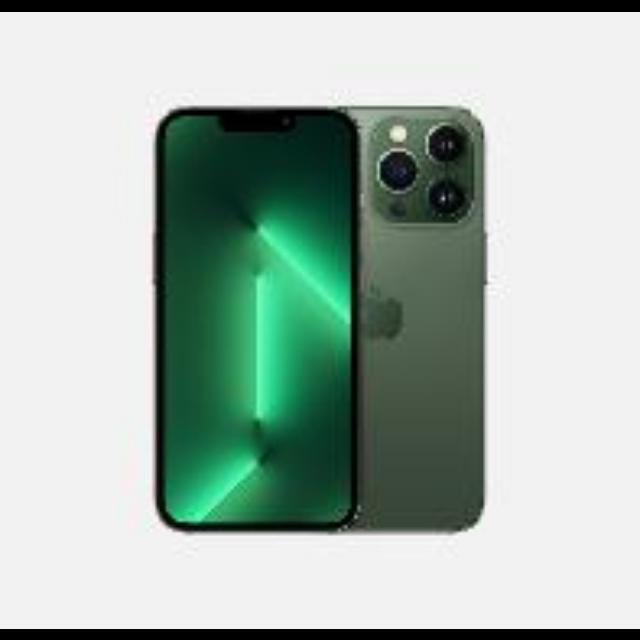mobile: (156, 105, 357, 527), (357, 109, 480, 531)
